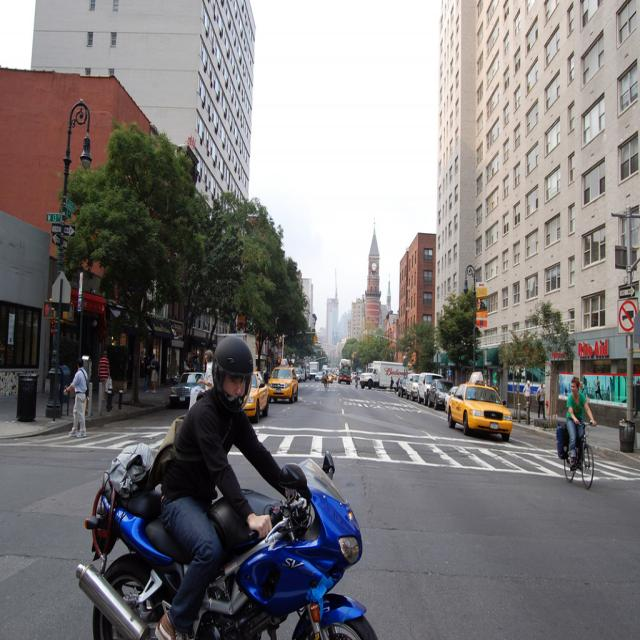other: (171, 358, 308, 426), (397, 372, 518, 447), (236, 371, 268, 421), (268, 362, 302, 402), (168, 368, 203, 405), (426, 378, 450, 409), (442, 385, 463, 411), (314, 367, 336, 383), (397, 375, 407, 398)
